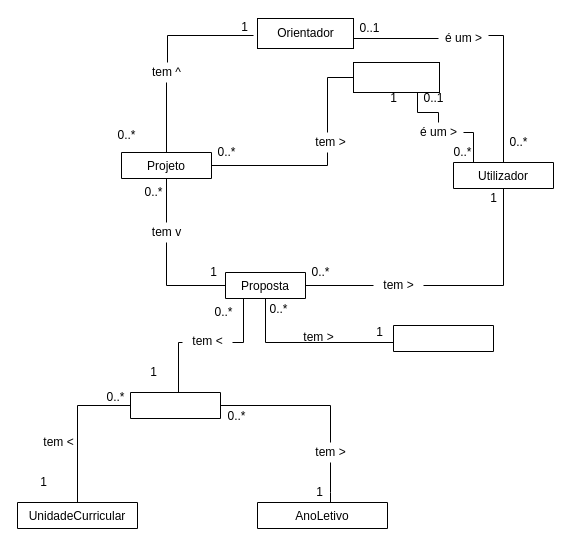
This 571x546 diagram has some shape labels left out. The shapes that lost their labels are listed below. From the top down, each one's box as (x1, y1, x2, y2) in pixels, then its label:
(352, 62, 440, 92): Aluno
(392, 324, 494, 352): Organização
(130, 392, 220, 418): EdiçãoUC
